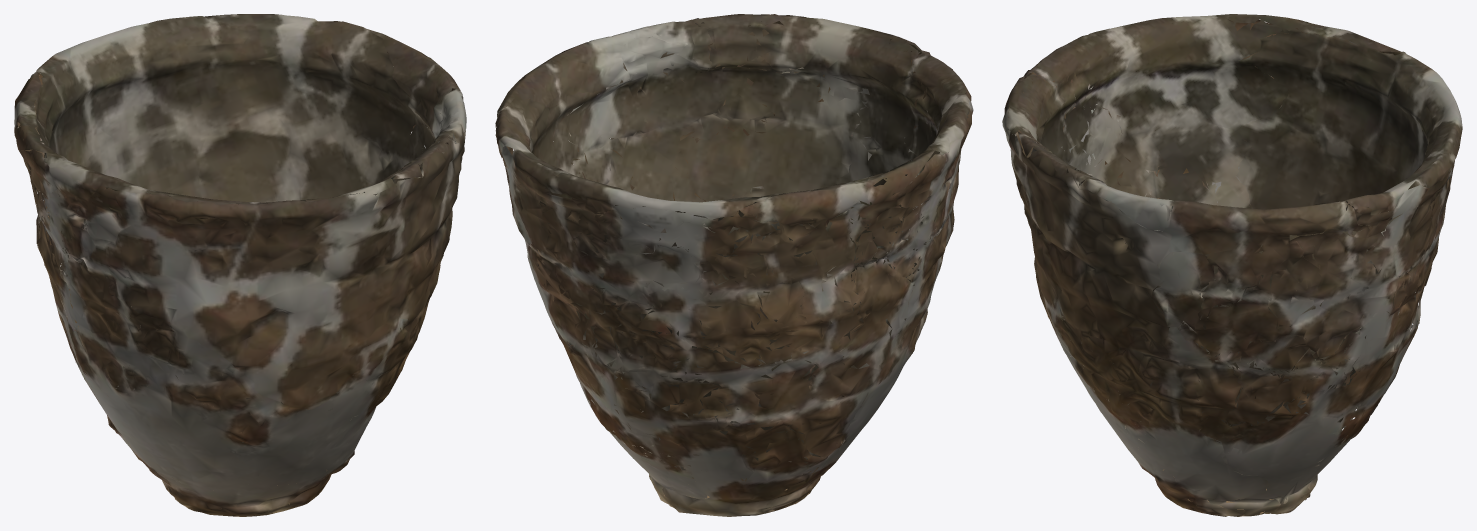
File: hm-bronze-age-cinerary-urn.glb
The picture shows the model from 3 angles, left to right: view 1: azimuth 30°, elevation 25°; view 2: azimuth 150°, elevation 25°; view 3: azimuth 270°, elevation 25°; orthographic projection.
Parts seen in each view (by area): view 1: Object_2, Object_3, Object_5, Object_4, Object_6; view 2: Object_5, Object_4, Object_6, Object_3, Object_2; view 3: Object_5, Object_4, Object_2, Object_3, Object_6.
Boxes of the visible parts, box(x1,y1,x2,y2) form: Object_2: box(17, 127, 466, 516); Object_3: box(24, 14, 440, 516); Object_5: box(14, 29, 465, 461); Object_4: box(14, 72, 466, 480); Object_6: box(17, 124, 429, 439); Object_5: box(495, 14, 969, 516); Object_4: box(496, 14, 934, 504); Object_6: box(506, 142, 930, 500); Object_3: box(495, 90, 956, 515); Object_2: box(597, 18, 973, 510); Object_5: box(1007, 14, 1454, 515); Object_4: box(1016, 14, 1454, 514); Object_2: box(1002, 14, 1288, 516); Object_3: box(1051, 32, 1462, 513); Object_6: box(1189, 59, 1454, 472).
Size of the model in its own units: 0.351 by 0.3227 by 0.3507.
Materials: 1 (1 with a texture image).
